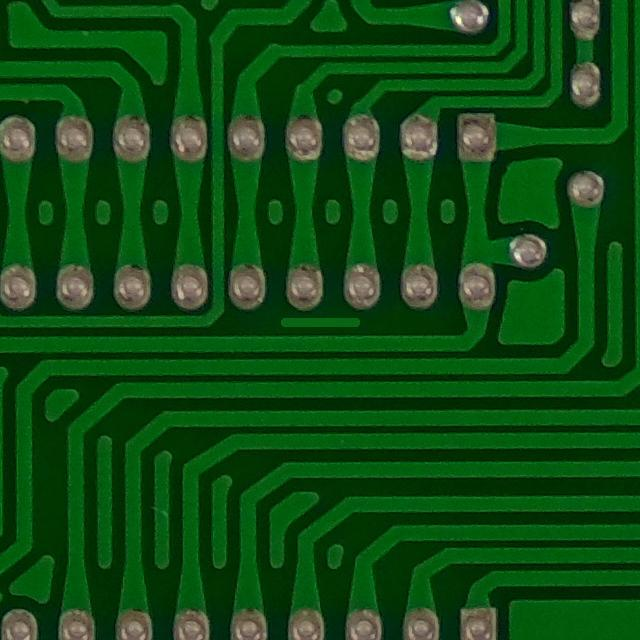spurious_copper: (273, 300, 367, 340)
